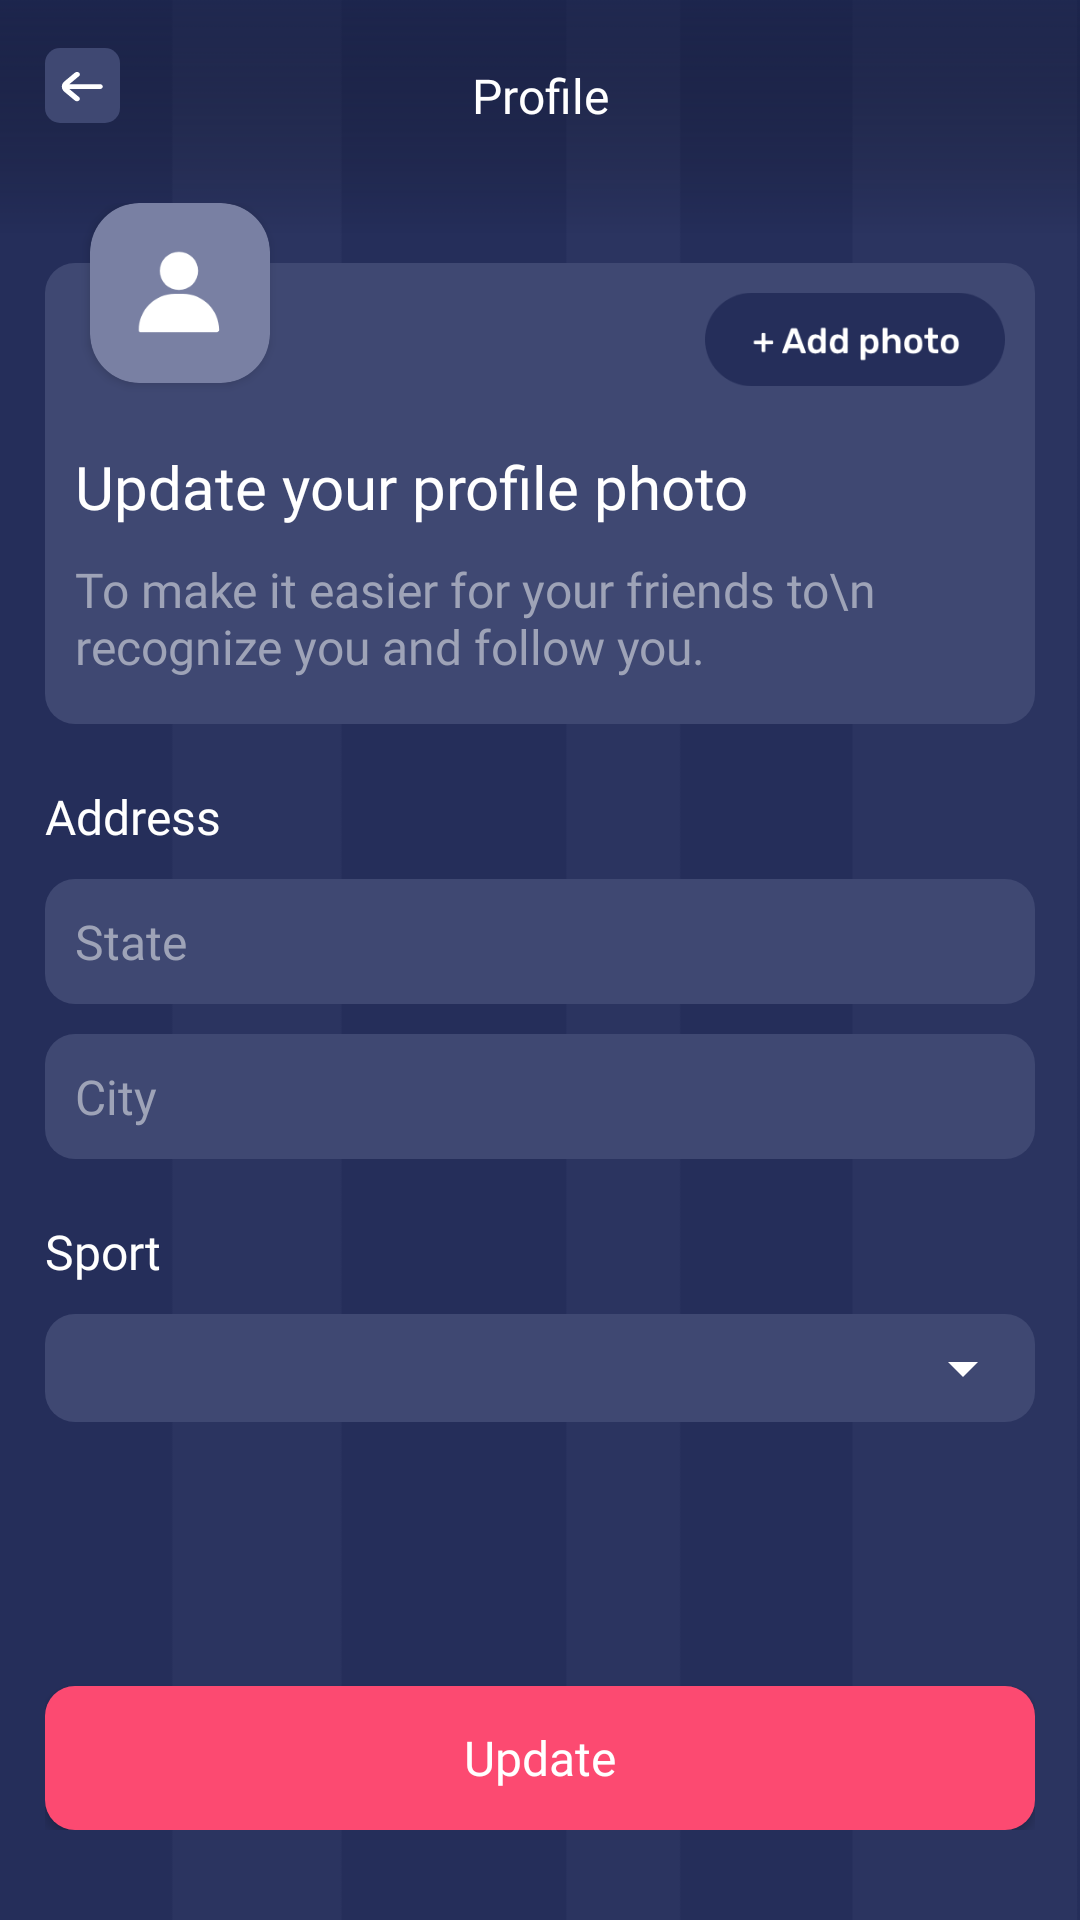

Icon click points for this 1080px×1920px phone screenshot, format (x=x, y=y):
back arrow: (x=82, y=85)
